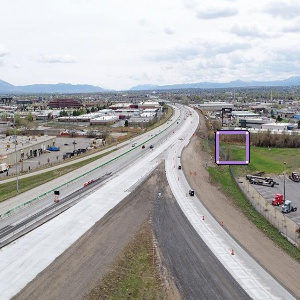square: (213, 128, 253, 167)
